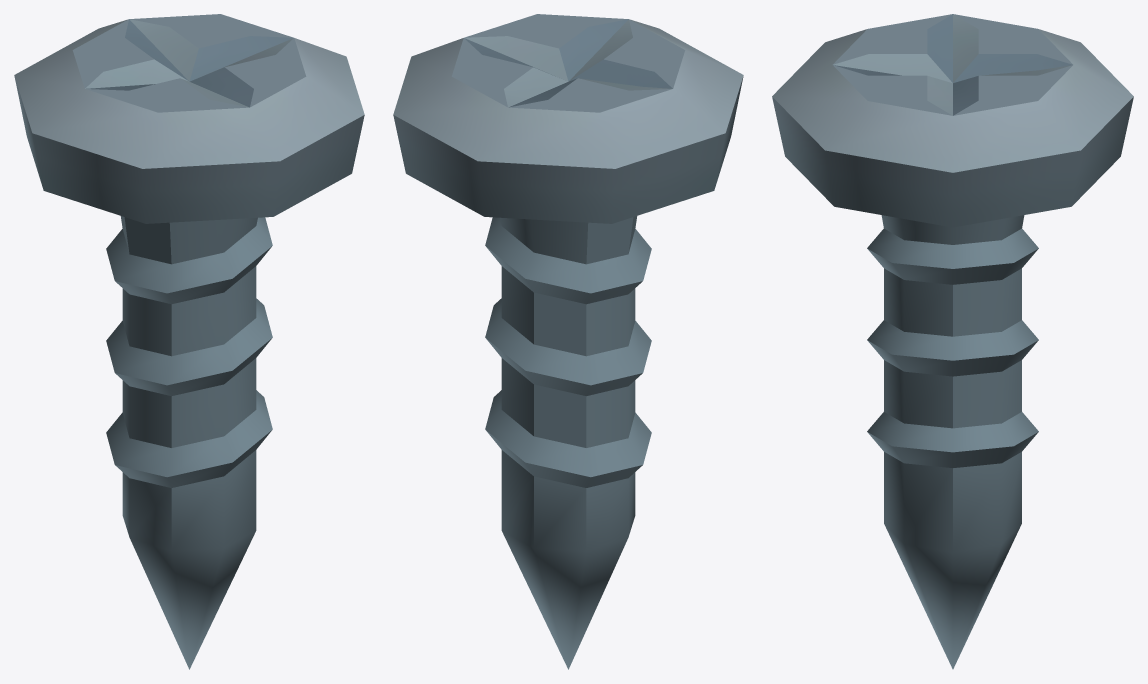
Rendered from screw_b.glb.
3 renders of one model, left to right at view 1: azimuth 30°, elevation 25°; view 2: azimuth 150°, elevation 25°; view 3: azimuth 270°, elevation 25°, orthographic.
Parts seen in each view (by area): view 1: screw_B; view 2: screw_B; view 3: screw_B.
Boxes of the visible parts, x1=… form: screw_B: x1=14, y1=14, x2=364, y2=669; screw_B: x1=393, y1=14, x2=743, y2=669; screw_B: x1=772, y1=14, x2=1133, y2=669.
Bounding box in the file's own units: 0.1589 × 0.2931 × 0.1589.
1 material, 1 textured.
